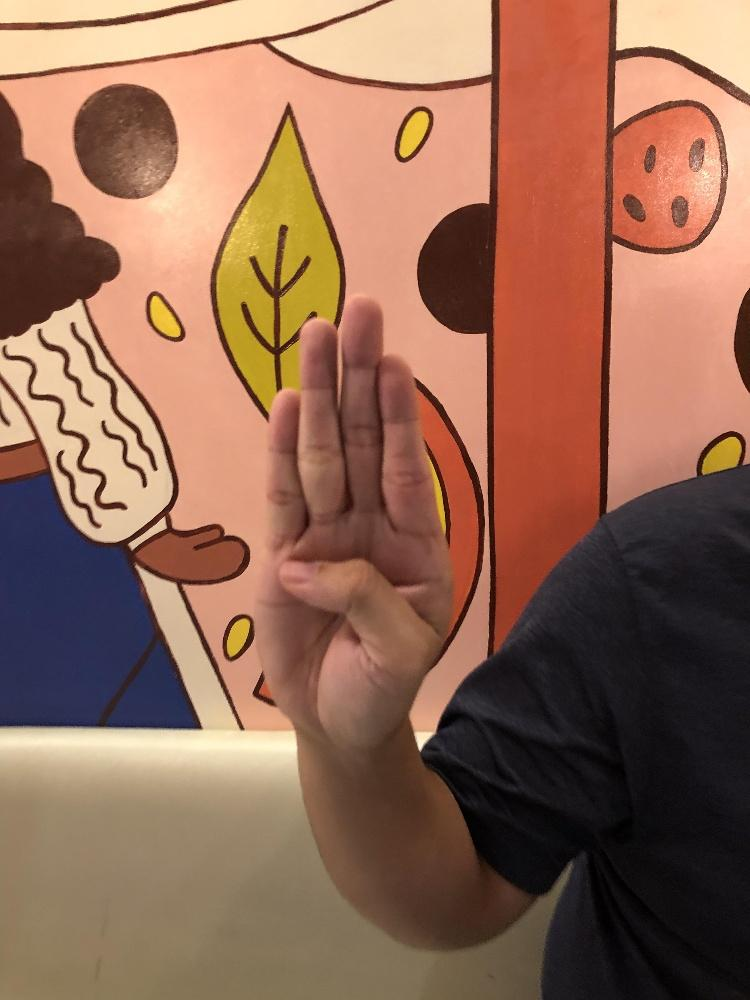b: (250, 291, 458, 742)
